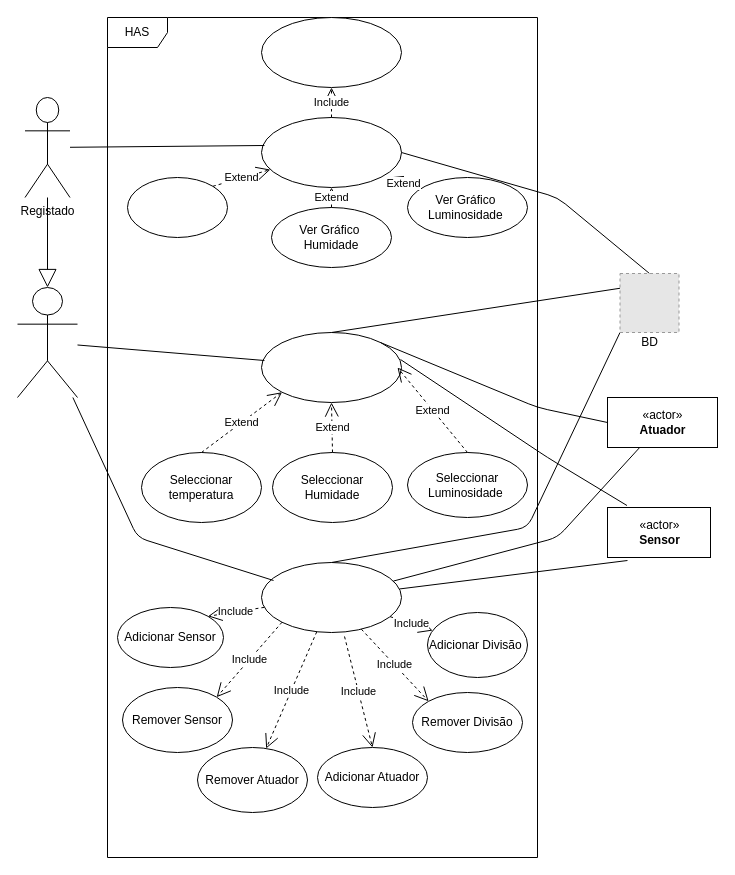
This 735x875 diagram has some shape labels left out. Grey dashed boxes stand in for pictures. The shapes that lost their labels are listed below. From the top down, each one's centre as x and y in pixels, then its label:
At point (331, 52): "Login".
At point (331, 152): "Visualizar Dados".
At point (177, 207): "Ver Gráfico Temperatura".
At point (47, 342): "Utilizdor".
At point (331, 367): "Controlo da Habitação".
At point (331, 597): "Edição da habitação".
